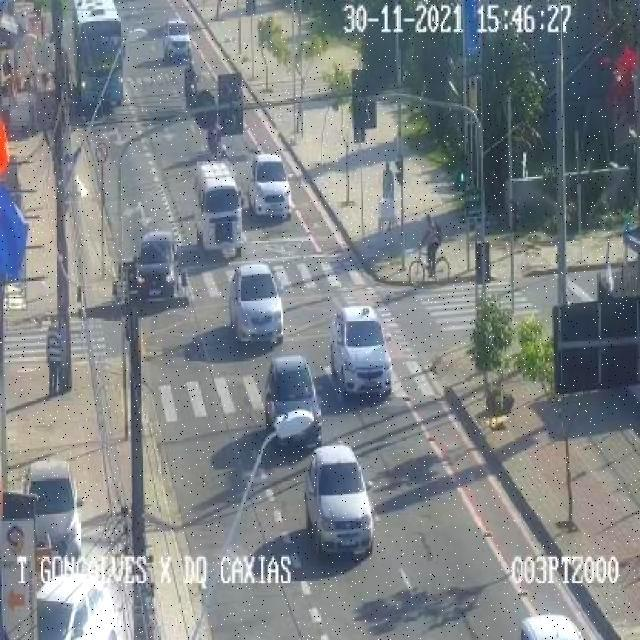Bus: (60, 0, 133, 116), (195, 162, 246, 256)
Car: (307, 446, 374, 560), (22, 460, 83, 564), (335, 299, 403, 392), (36, 572, 124, 638), (263, 355, 322, 448), (228, 264, 283, 346), (134, 230, 182, 301), (248, 153, 292, 220), (162, 18, 190, 65)
